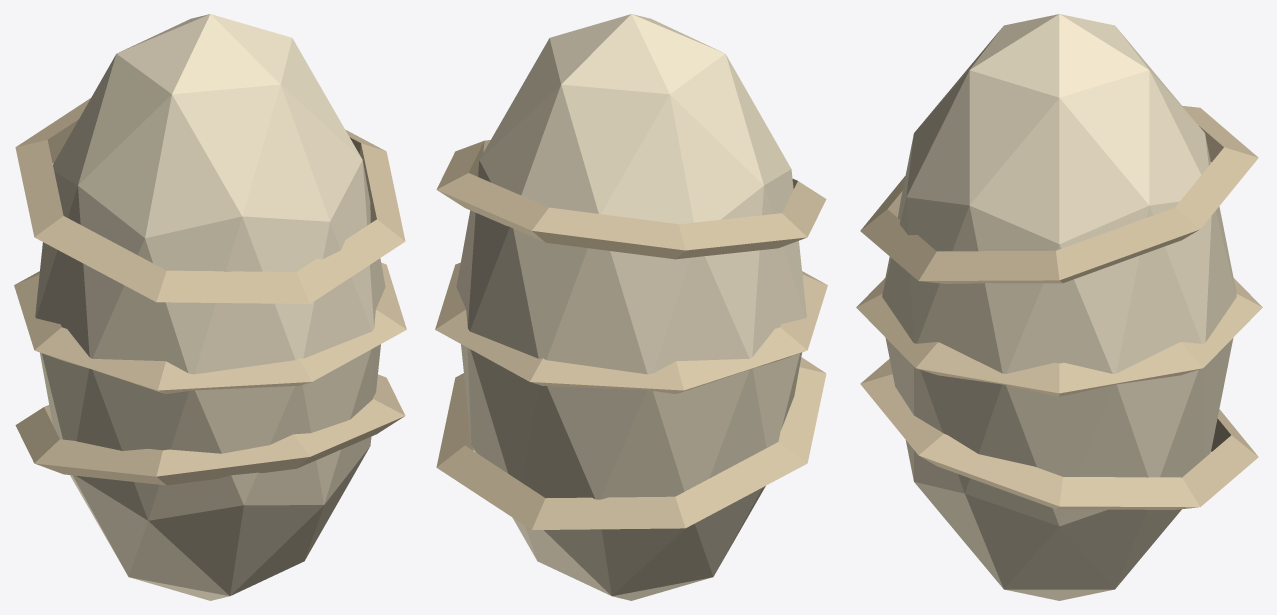
3 renders of one model, left to right at view 1: azimuth 30°, elevation 25°; view 2: azimuth 150°, elevation 25°; view 3: azimuth 270°, elevation 25°, orthographic.
Parts seen in each view (by area): view 1: Compressed silk cocoon; view 2: Compressed silk cocoon; view 3: Compressed silk cocoon.
Part boxes in pixels (<box>): Compressed silk cocoon: <box>14,14,406,600</box>; Compressed silk cocoon: <box>435,14,827,600</box>; Compressed silk cocoon: <box>856,14,1262,600</box>.
Bounding box in the file's own units: 0.424 × 0.675 × 0.424.
